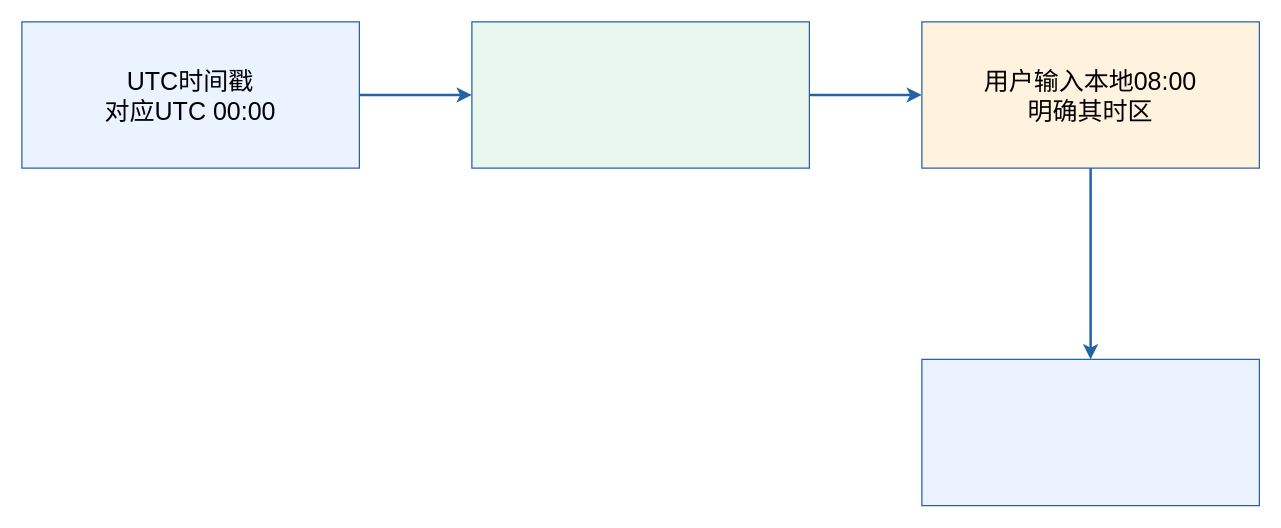
The diagram is 1281 pixels wide and 528 high, and some of its shapes have lost their labels. Here are the shapes that lost their labels. From the top down, the centre of each, then its label:
(640,94): 显示层转UTC+8 显示08:00
(1090,432): 转换回UTC 00:00 再写入存储
